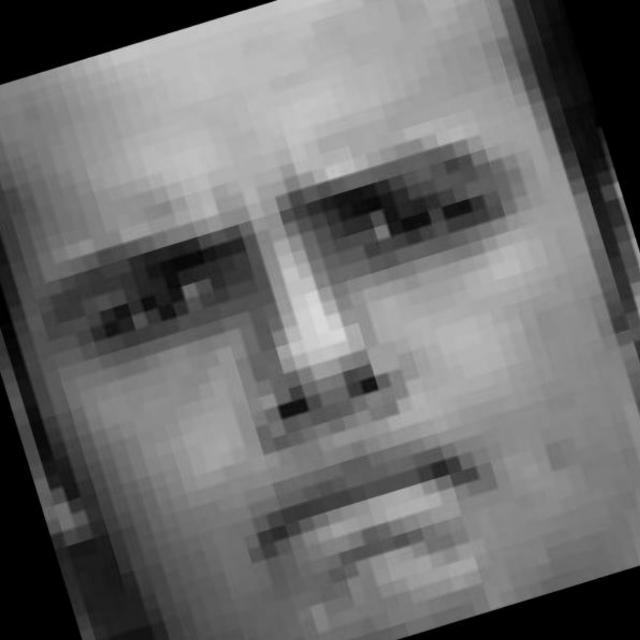Angry: (3, 83, 640, 575)
